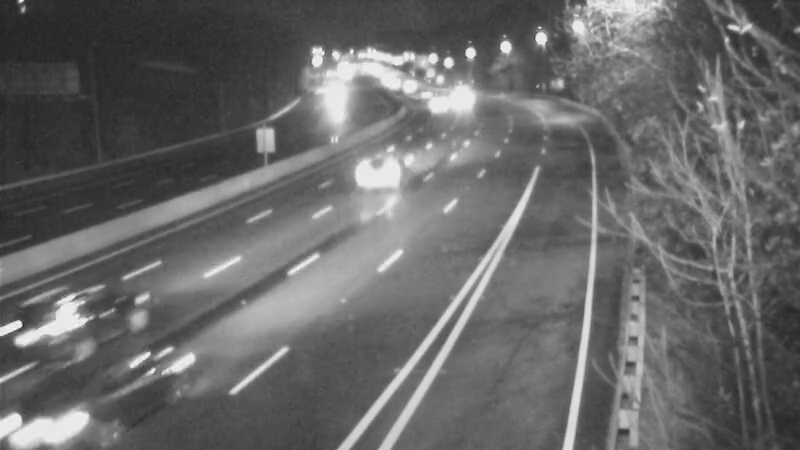vehicle: (1, 283, 106, 393), (1, 356, 102, 450), (338, 128, 418, 208), (414, 76, 464, 126)
